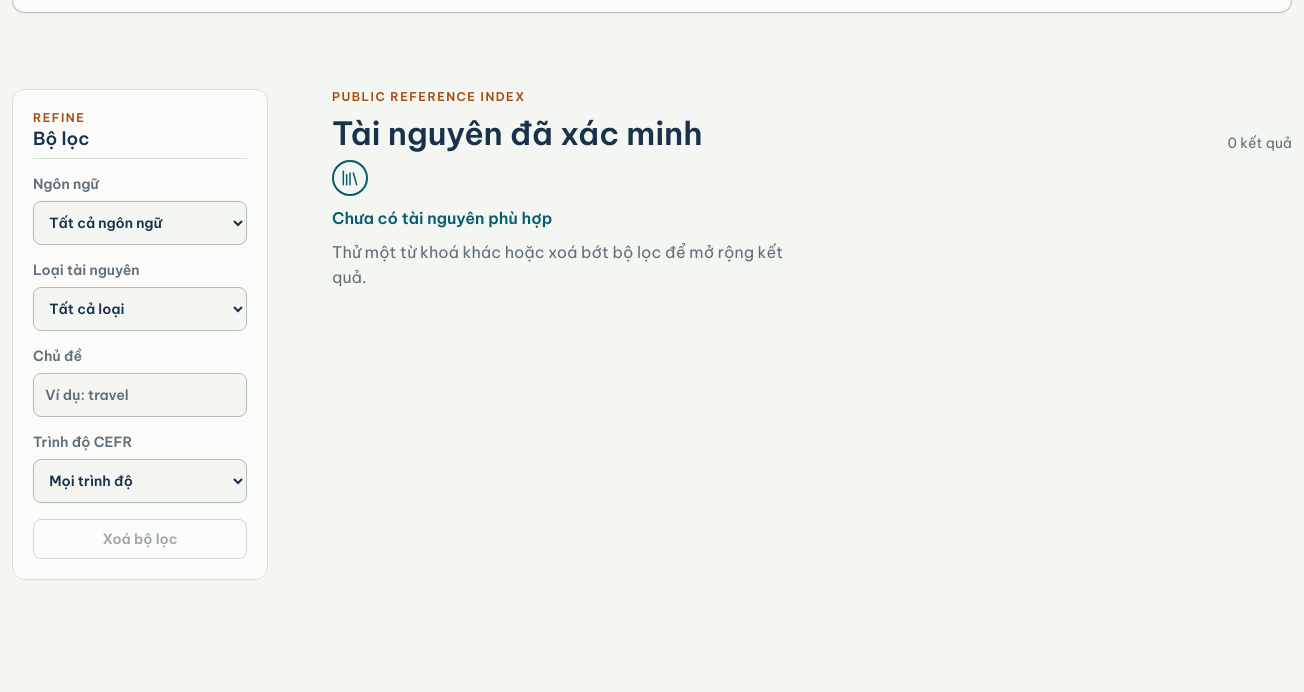
Test case: Library explorer pages › applies topic changes on Enter or blur instead of requesting per keystroke
The width and height of the screenshot is (1304, 692).
(page scrolled)
Type "greetings" into the field with placeholder "Ví dụ: travel". click: (140, 395)
box: left=33, top=373, right=247, bottom=417
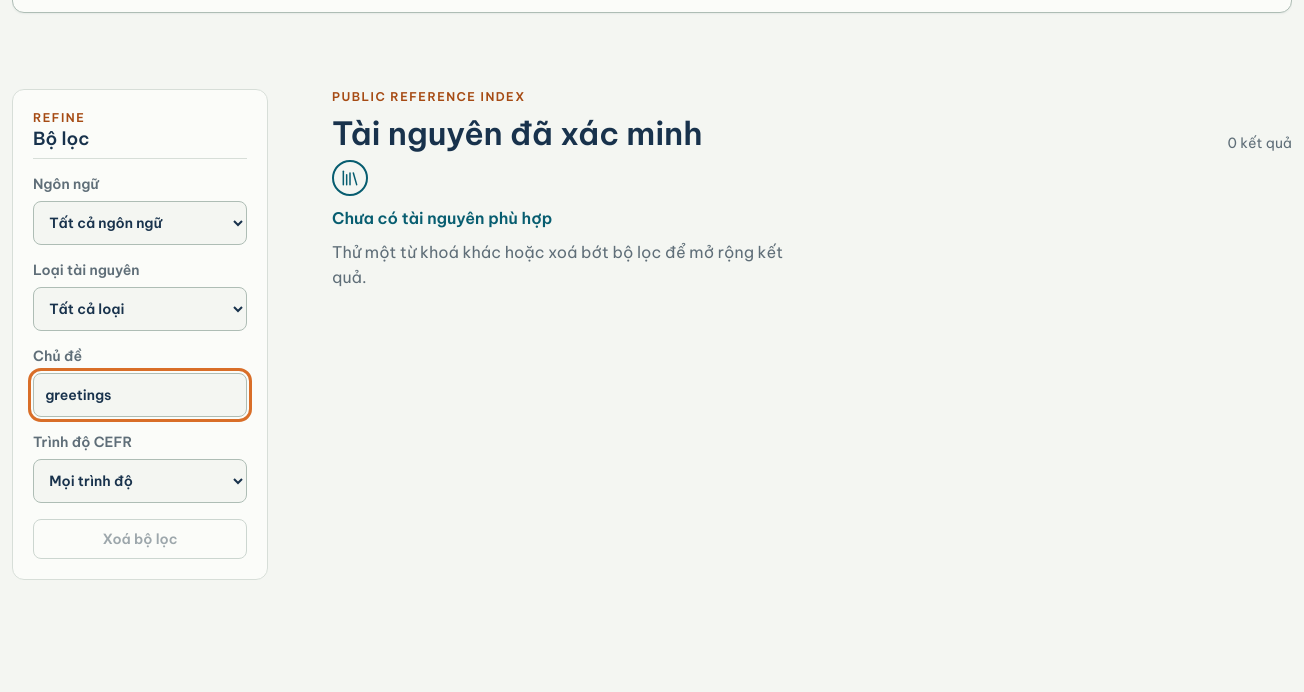
Press Enter
(page scrolled)
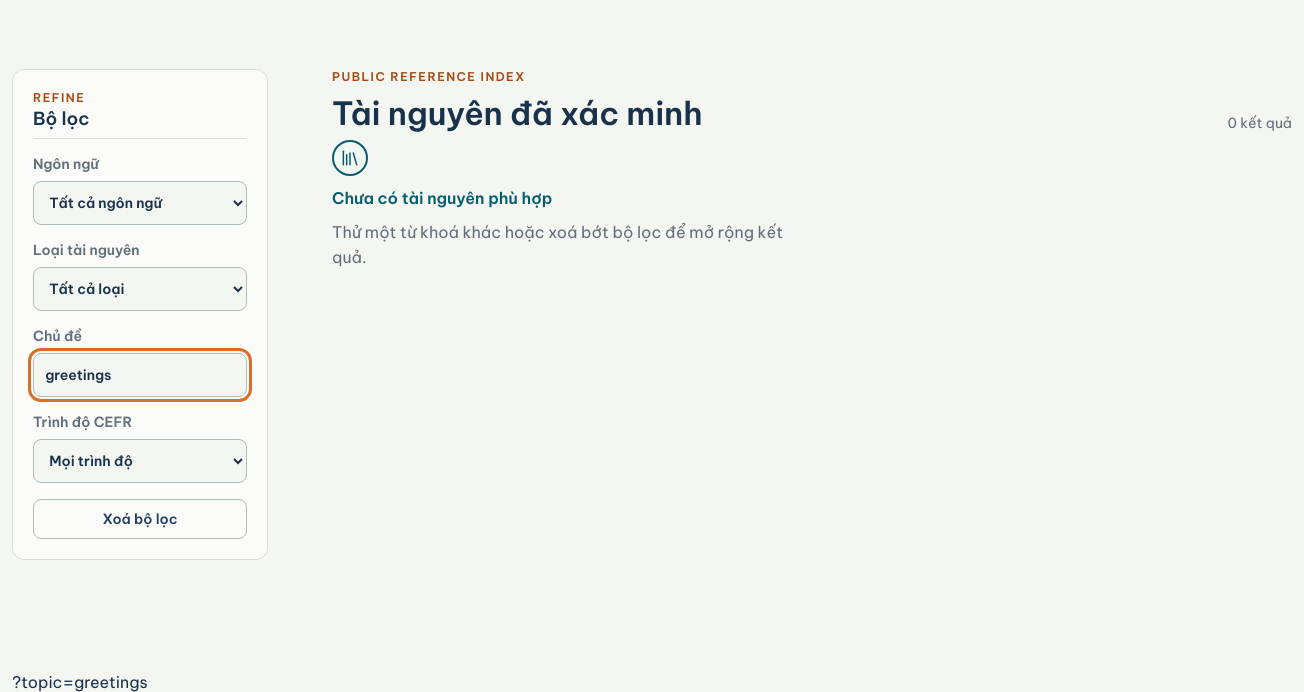
expect the text named "location-search" shows "topic=greetings": met, box left=12, top=672, right=148, bottom=691
